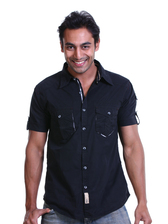clothoes: (20, 61, 144, 216)
